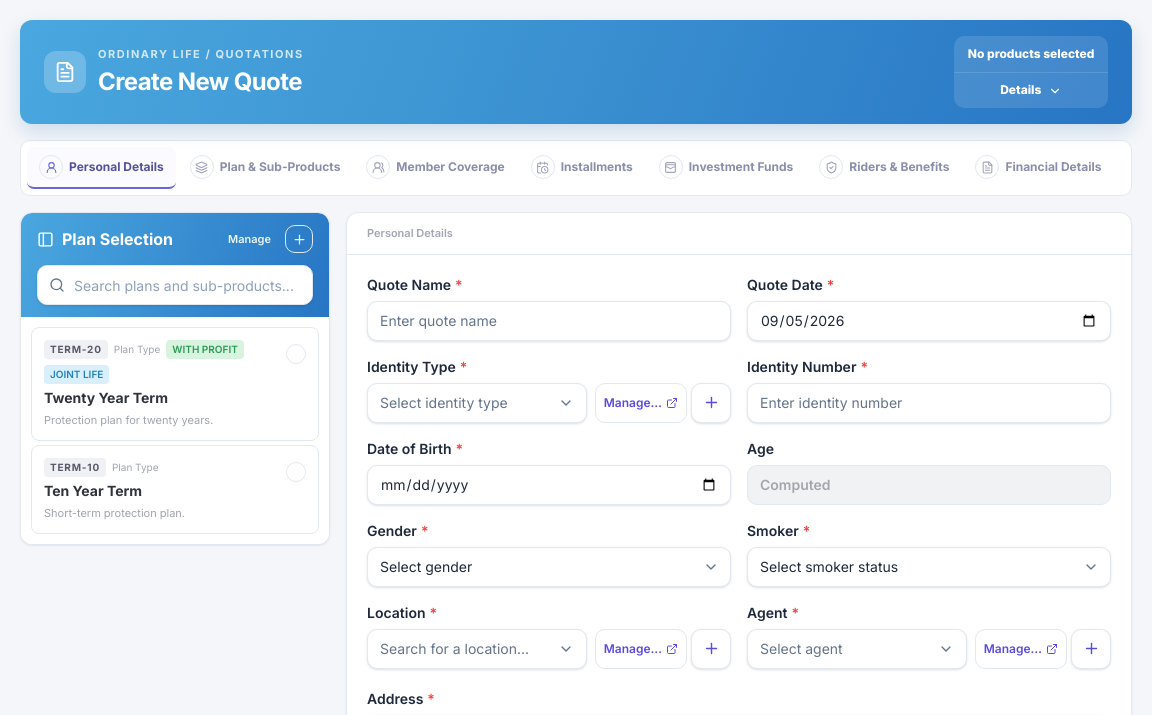
Test case: OL quotation wizard › selects only the clicked plan and updates the header count
This screenshot has width=1152, height=715.
Click the button "TERM-20".
click(76, 350)  # box 31,327 -> 319,441
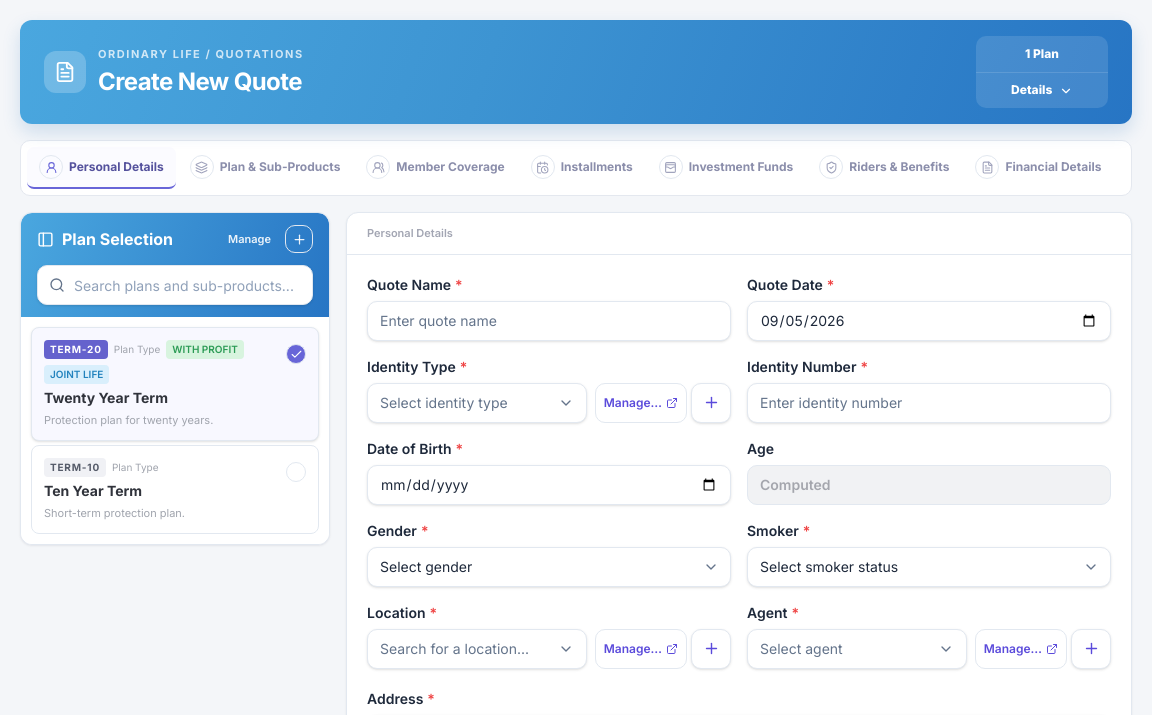
Result: the text "1 Plan" is shown at 1025,46 -> 1059,61
